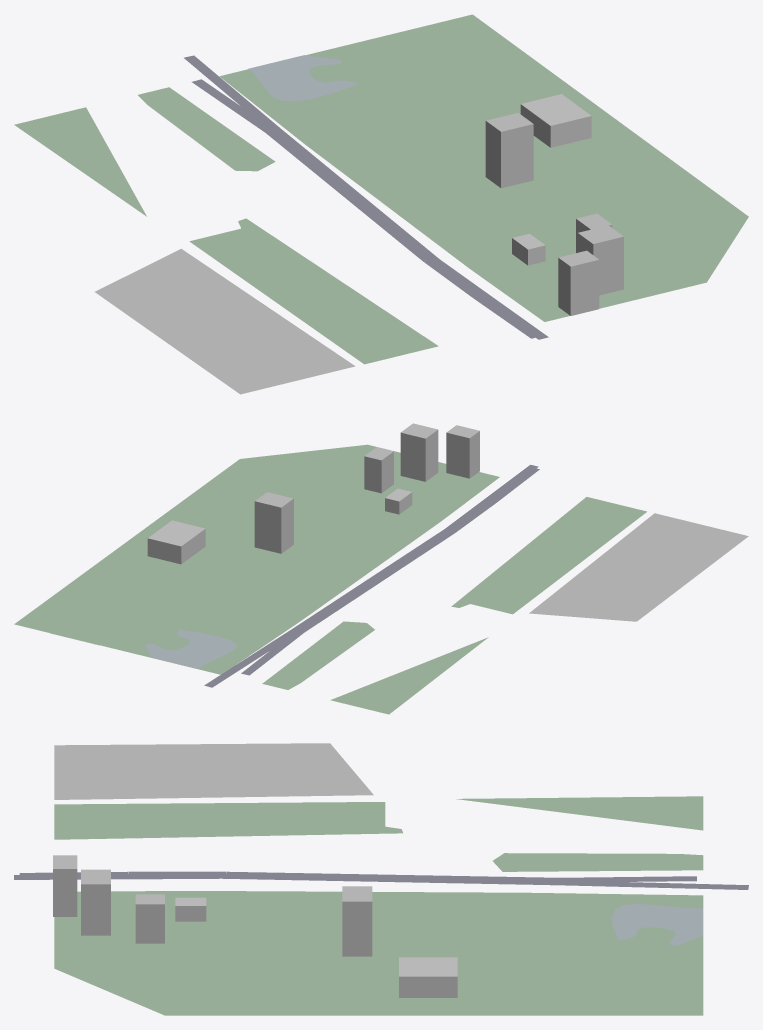
The model's file is 135_113_mid.glb.
The picture shows the model from 3 angles, top to bottom: view 1: azimuth 30°, elevation 25°; view 2: azimuth 150°, elevation 25°; view 3: azimuth 270°, elevation 25°; orthographic projection. The views are drawn at different scales.
Bounding box in the file's own units: 494 × 47.2 × 566.
